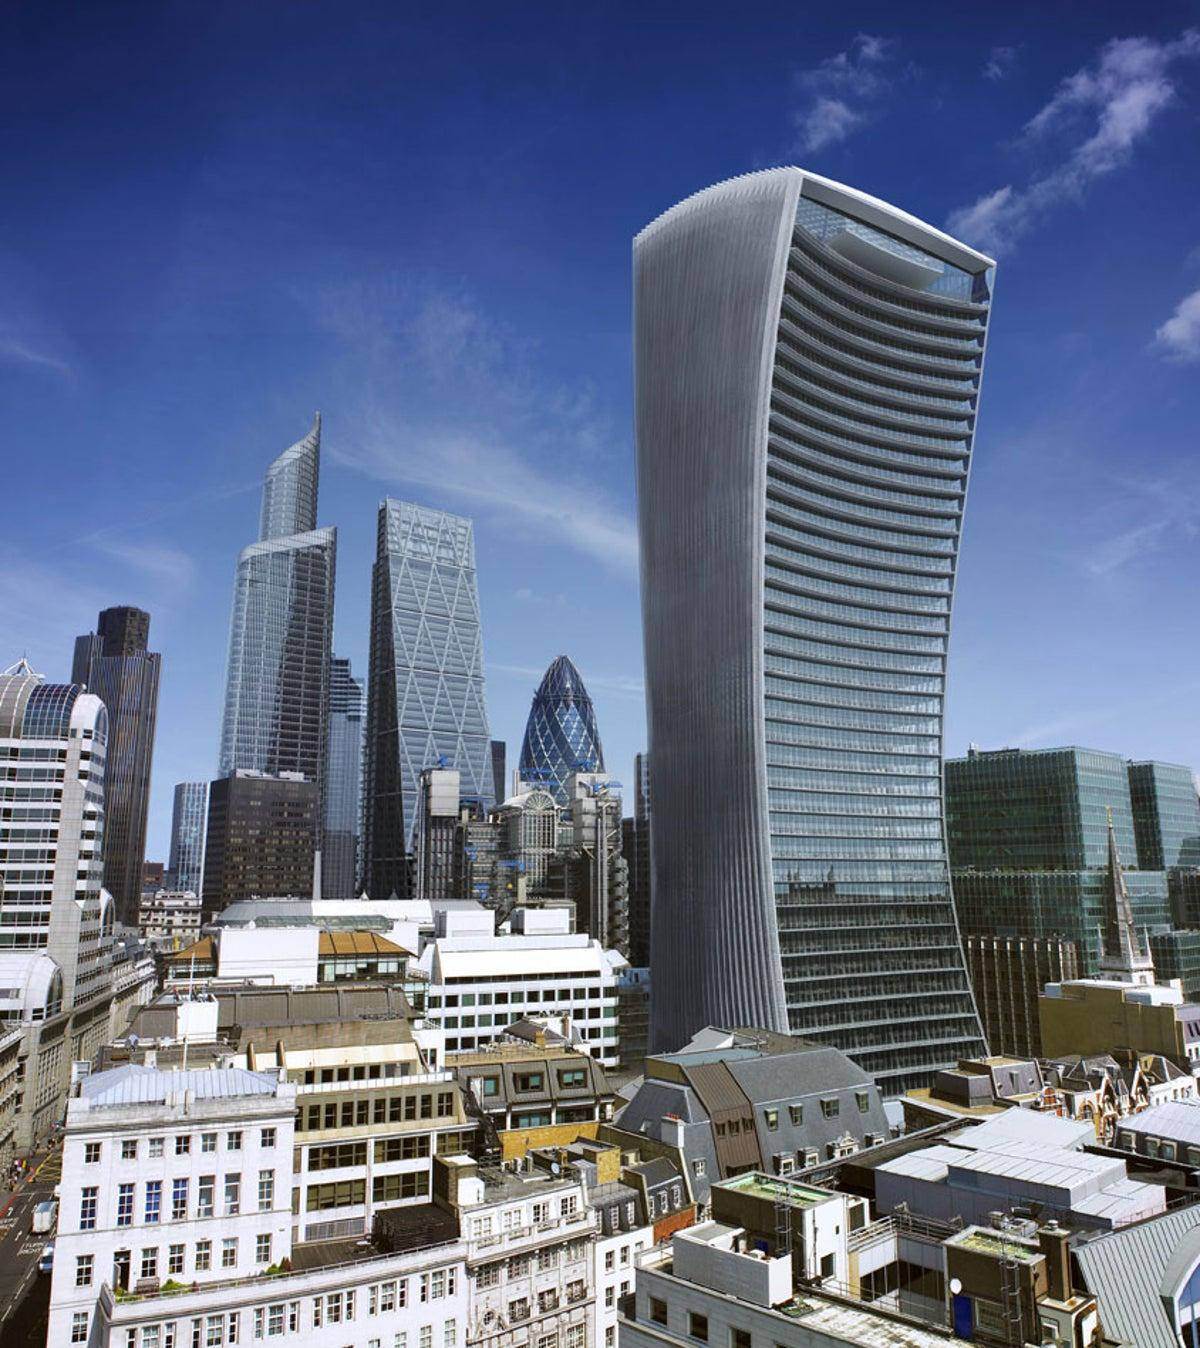Walkie talkie: (598, 149, 1069, 1049)
